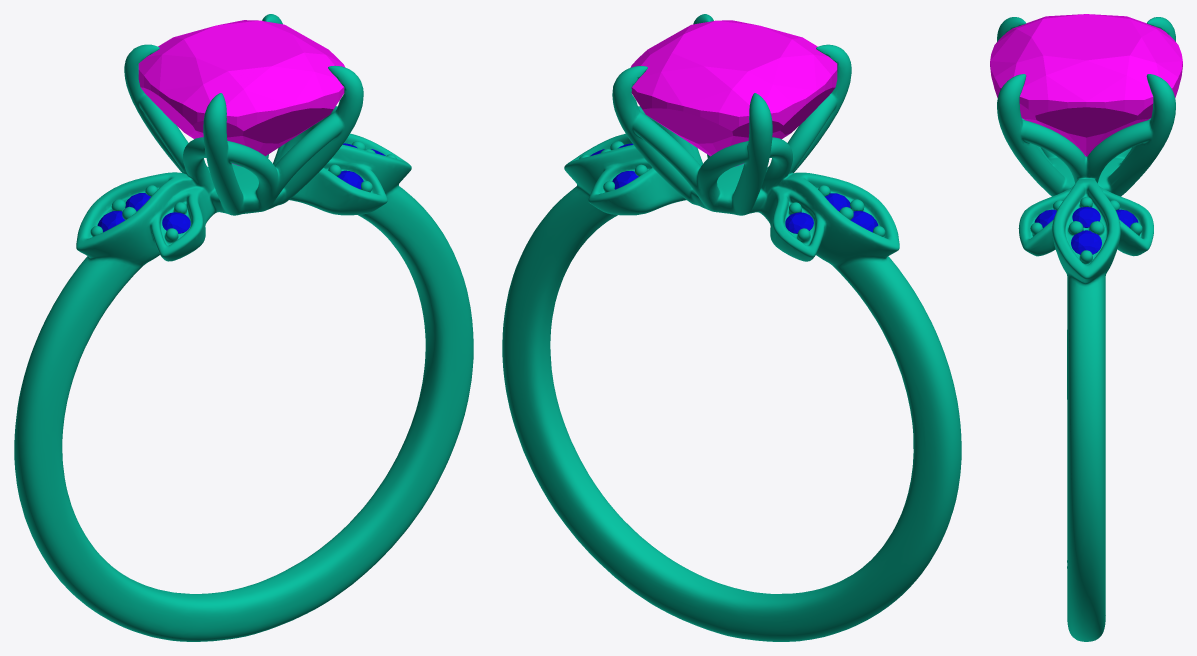
Rendered from BE1D311_CU_200ct_RENDER.glb.
3 views of the same model, side by side, from view 1: azimuth 30°, elevation 25°; view 2: azimuth 150°, elevation 25°; view 3: azimuth 270°, elevation 25° (orthographic).
Parts seen in each view (by area): view 1: Metal 01, CS_Diamond_Cushion; view 2: Metal 01, CS_Diamond_Cushion; view 3: Metal 01, CS_Diamond_Cushion, Diamond_Round_side.006, Diamond_Round_side.005.
Boxes of the visible parts, left/top/right/bottom form: Metal 01: left=14, top=14, right=473, bottom=641; CS_Diamond_Cushion: left=138, top=20, right=345, bottom=166; Metal 01: left=502, top=14, right=961, bottom=641; CS_Diamond_Cushion: left=630, top=20, right=837, bottom=166; Metal 01: left=997, top=17, right=1175, bottom=641; CS_Diamond_Cushion: left=990, top=14, right=1182, bottom=156; Diamond_Round_side.006: left=1071, top=230, right=1101, bottom=254; Diamond_Round_side.005: left=1072, top=207, right=1100, bottom=227.
Size of the model in its own units: 20.1 by 24.92 by 7.5.
